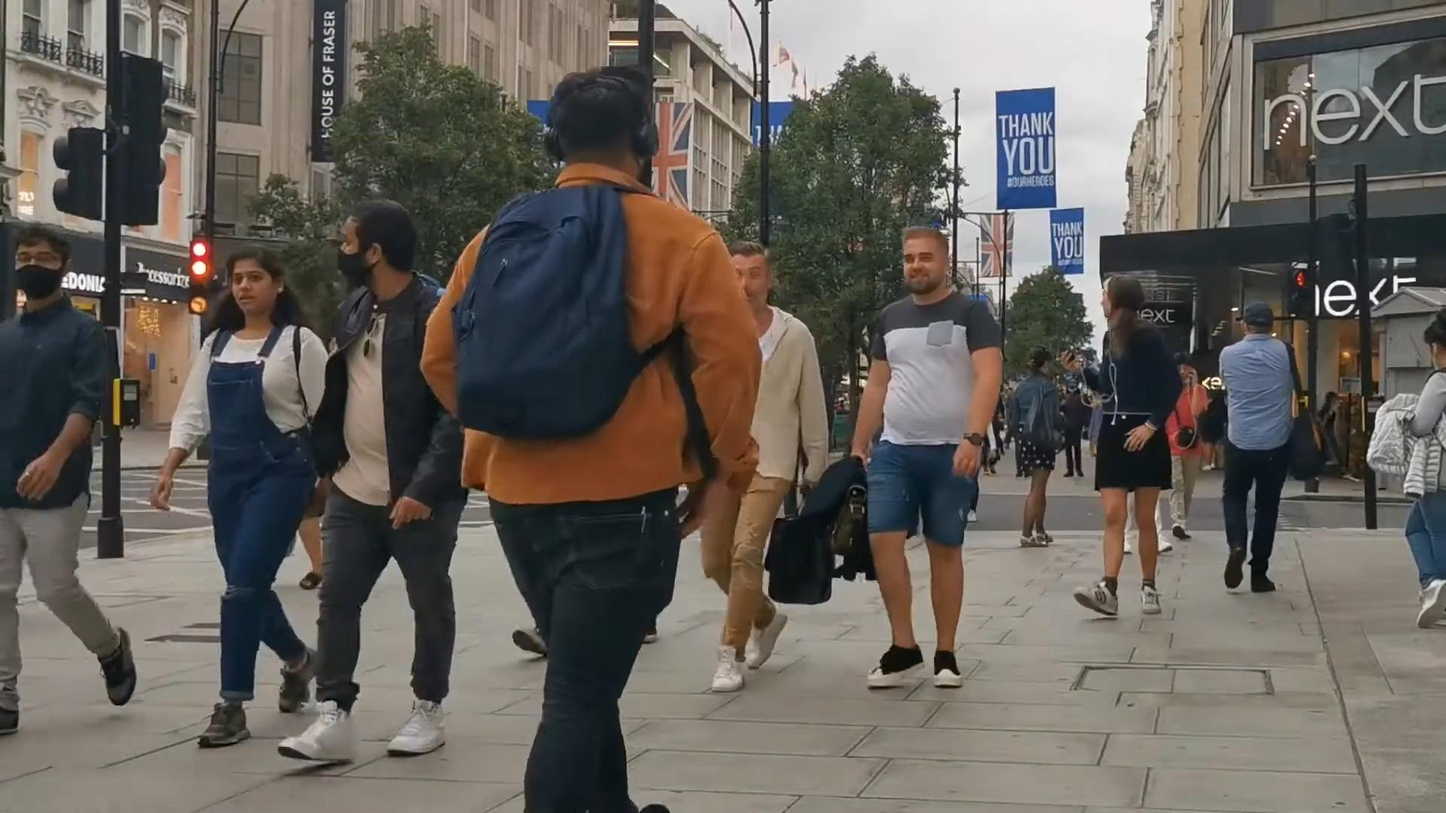no-helmet: (544, 64, 660, 179), (338, 195, 415, 289), (11, 220, 73, 300), (226, 243, 288, 319), (902, 224, 951, 299), (726, 238, 772, 315), (1100, 274, 1145, 337), (1423, 307, 1446, 370), (1243, 302, 1274, 335), (1027, 344, 1053, 379), (1173, 352, 1195, 386)
